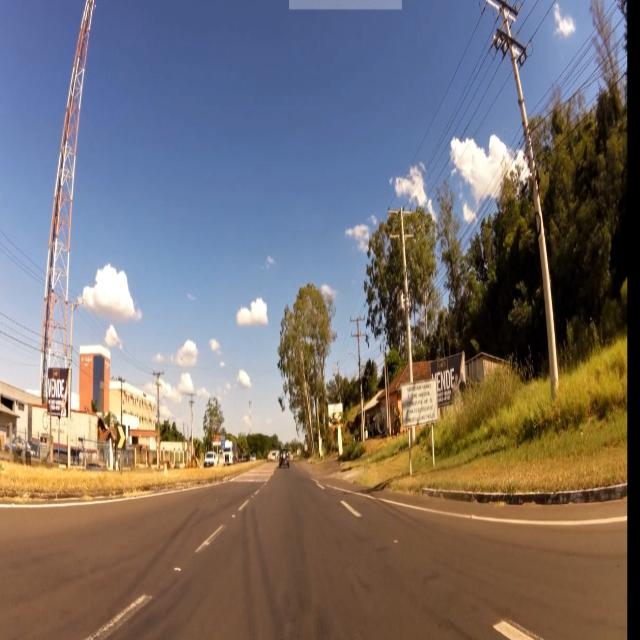E-5: (402, 384, 438, 422)
